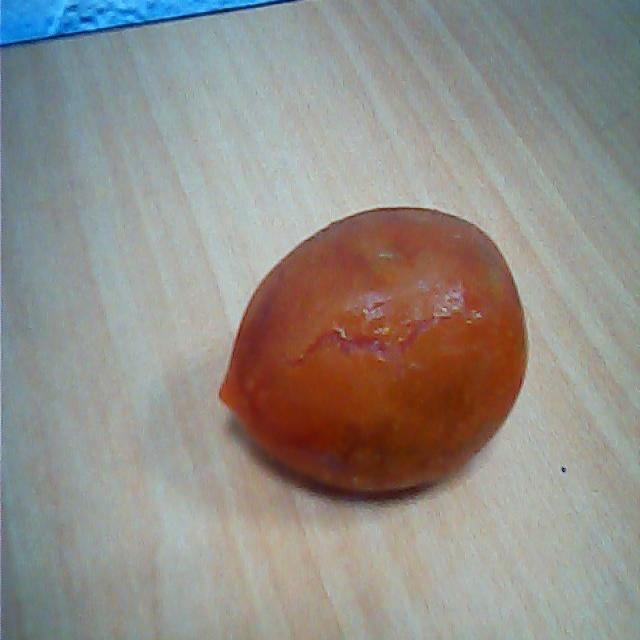defectuoso: (208, 205, 532, 502)
